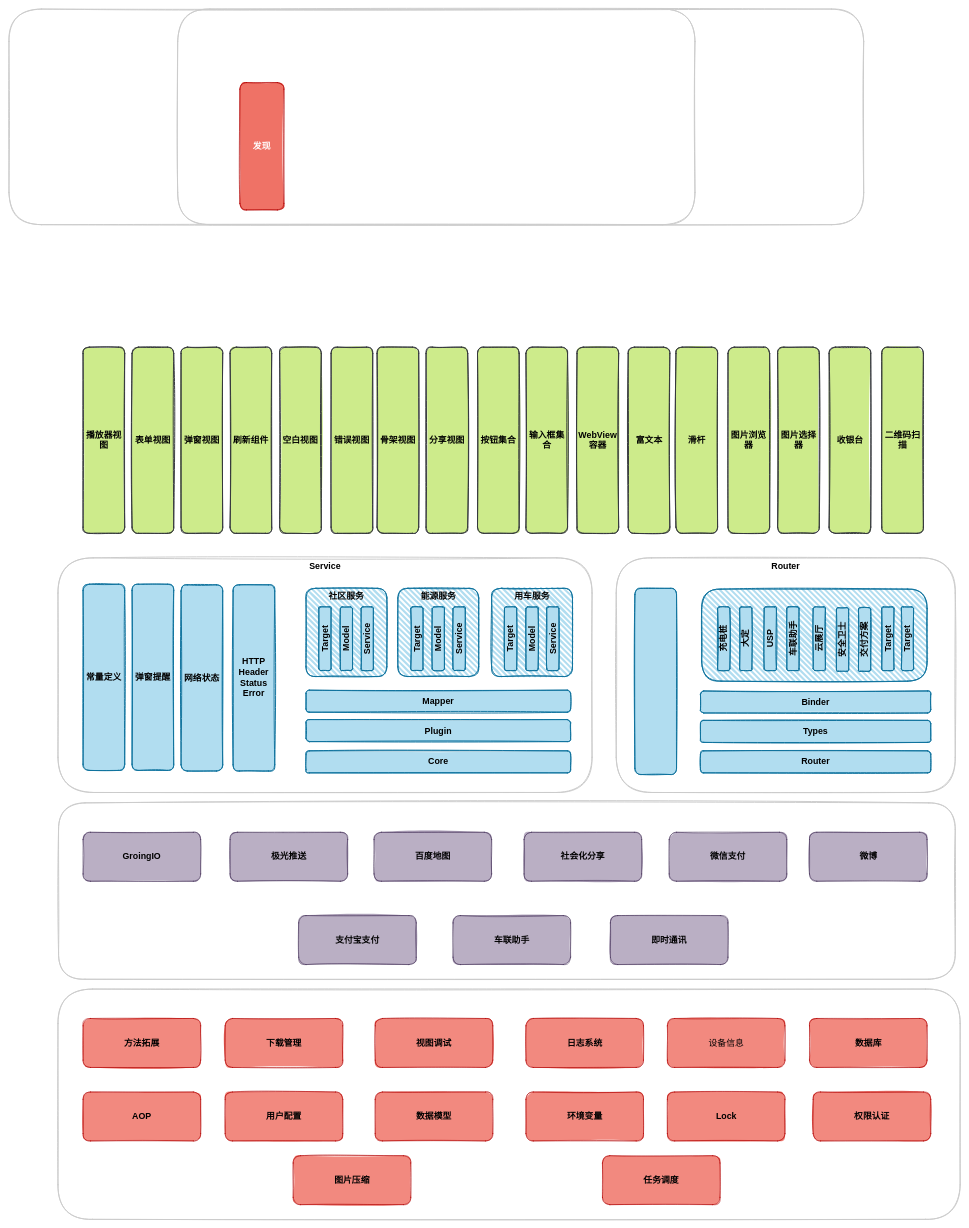
Image size: 969x1228. Some labels were removed from this diagram. Here are the shapes that lost their labels. From the top down, the box of each, then its label:
(8, 8, 695, 225): Widget
(177, 8, 864, 225): Module
(701, 588, 927, 681): Vipers
(634, 588, 677, 775): Action
(58, 802, 956, 980): Extension
(57, 988, 960, 1220): Common
